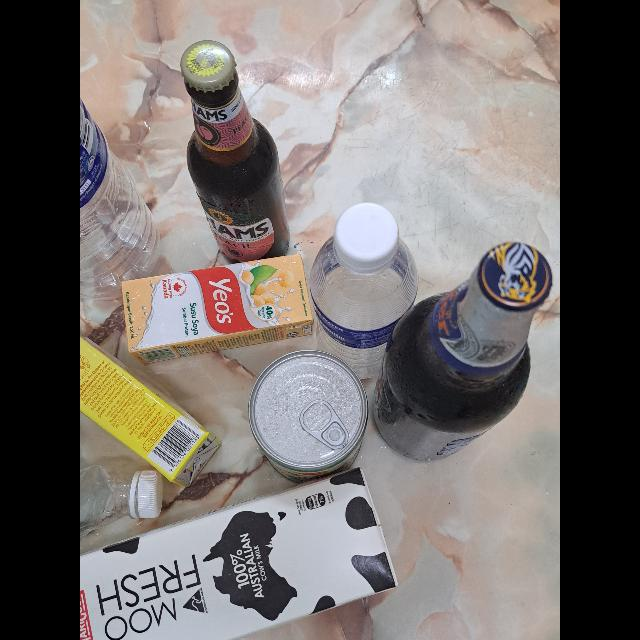aba de lata: (302, 397, 346, 449)
caixinha: (85, 468, 403, 640), (83, 329, 223, 487), (118, 257, 328, 355)
garrafa de vidro: (381, 236, 551, 469), (182, 34, 292, 264)
garrafa plástica: (80, 95, 166, 317), (306, 238, 420, 384)
lata: (250, 350, 372, 482)
tampa plástica: (340, 204, 394, 270), (139, 468, 161, 520)
